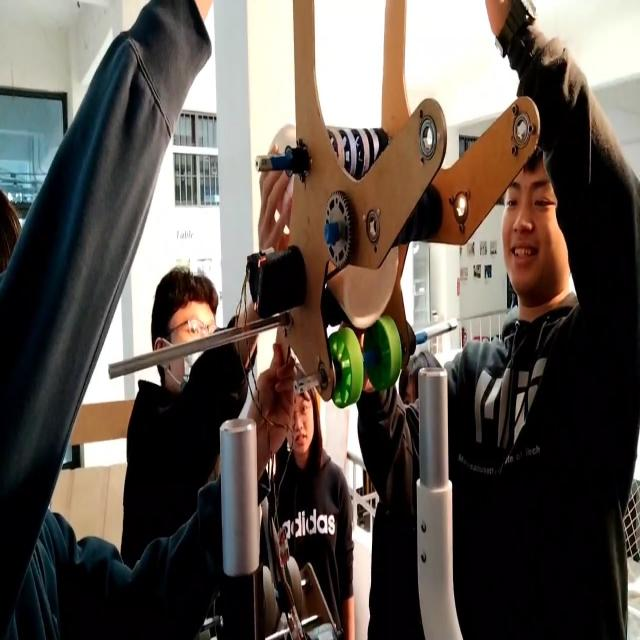CORAL: (260, 118, 403, 326)
